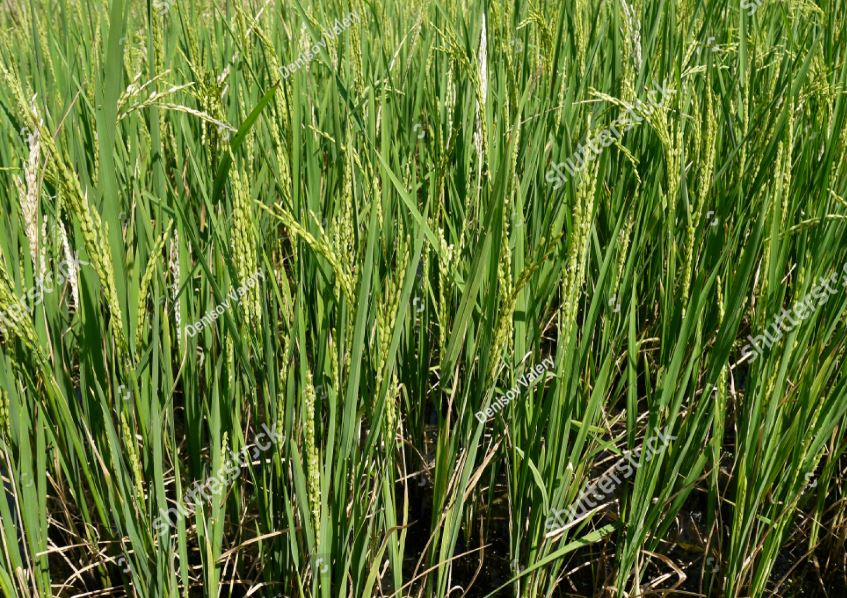Wheat: (24, 85, 794, 514)
